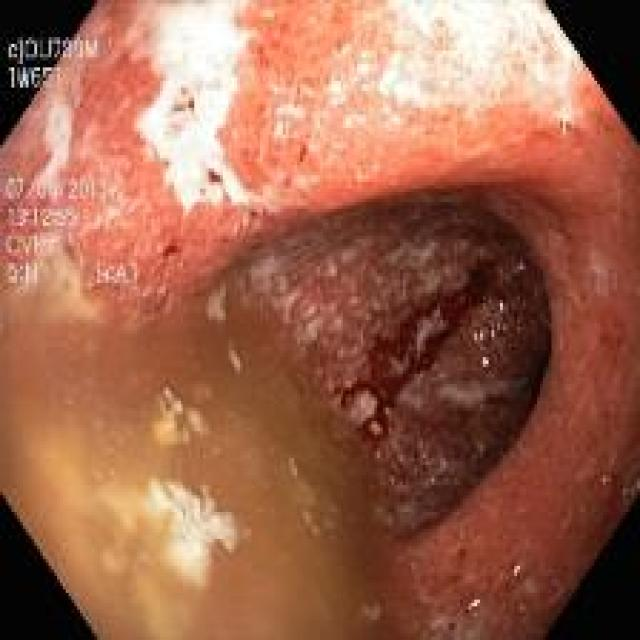ulcerative-colitis-grade-3: (0, 3, 640, 639)
